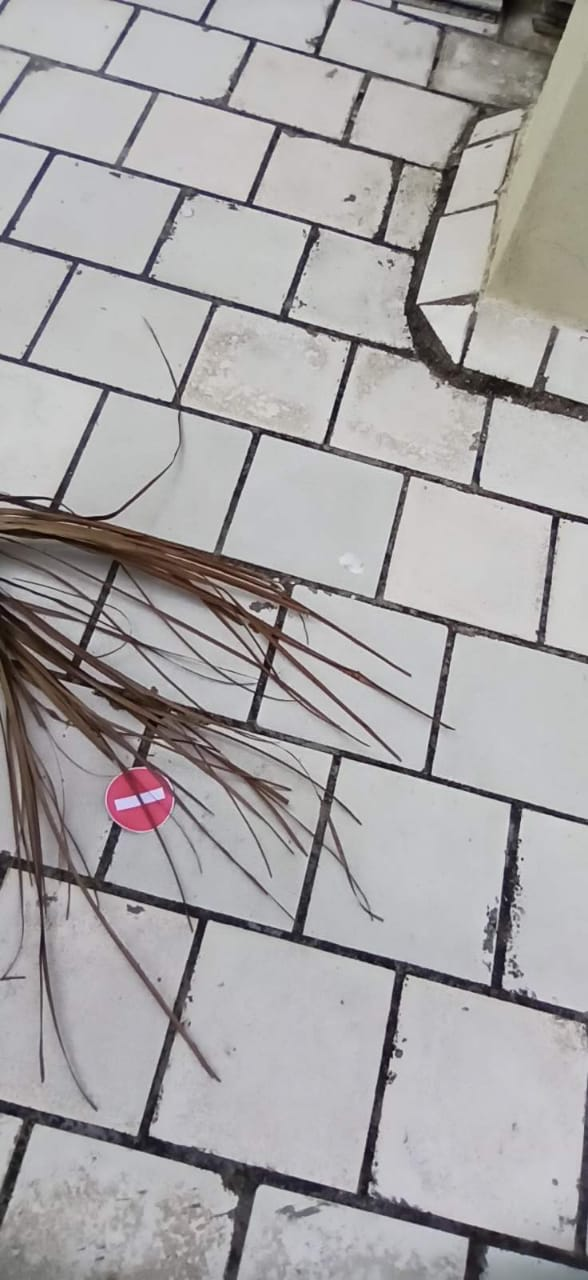NO ENTRY: (101, 768, 193, 830)
